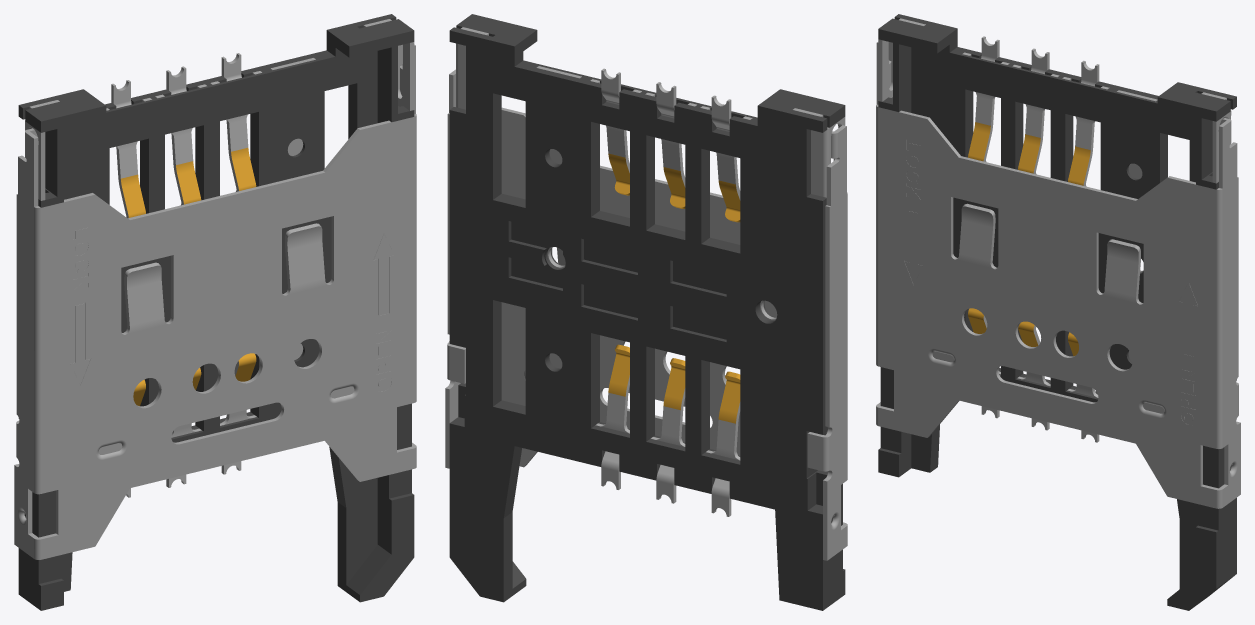
Rendered from XKB_Connection_XKSIM_008.3dmodel.glb.
3 renders of one model, left to right at view 1: azimuth 30°, elevation 25°; view 2: azimuth 150°, elevation 25°; view 3: azimuth 330°, elevation 25°, orthographic. The views are drawn at different scales.
Parts seen in each view (by area): view 1: =>[0:1:1:1]; view 2: =>[0:1:1:1]; view 3: =>[0:1:1:1].
Boxes of the visible parts, x1,y1,x2,y2 form: =>[0:1:1:1]: (14,14,416,610); =>[0:1:1:1]: (445,14,847,610); =>[0:1:1:1]: (876,14,1240,610).
Size of the model in its own units: 17.6 by 24.6 by 1.85.
